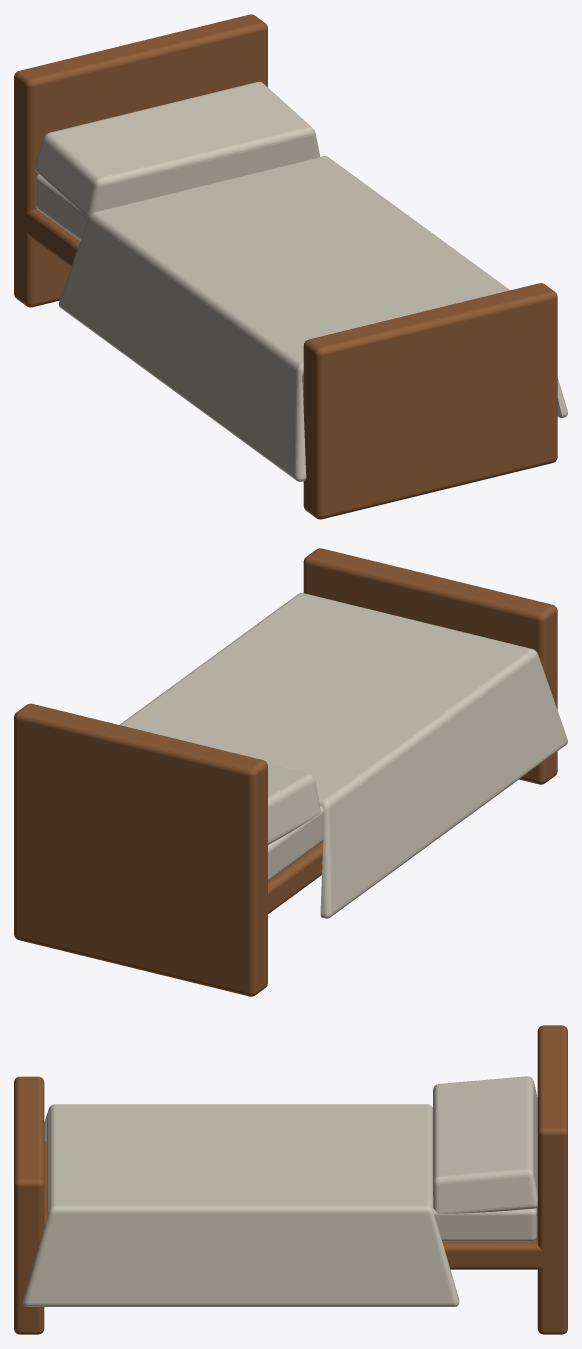
Rendered from forma-bed-single.glb.
3 renders of one model, top to bottom at view 1: azimuth 30°, elevation 25°; view 2: azimuth 150°, elevation 25°; view 3: azimuth 270°, elevation 25°, orthographic. The views are drawn at different scales.
Visible parts, largest first — view 1: blanket, box.2, box, pillow, mattress, box.3; view 2: blanket, box, box.2, pillow, box.3, mattress; view 3: blanket, pillow, box, box.2, mattress, box.3.
Boxes of the visible parts, <box> form: blanket: <box>58,156,567,481</box>; box.2: <box>303,283,557,519</box>; box: <box>14,14,267,307</box>; pillow: <box>34,81,320,215</box>; mattress: <box>35,174,303,403</box>; box.3: <box>17,209,303,405</box>; blanket: <box>120,593,567,918</box>; box: <box>14,703,267,996</box>; box.2: <box>303,548,557,784</box>; pillow: <box>267,764,320,844</box>; box.3: <box>259,841,323,917</box>; mattress: <box>268,805,324,880</box>; blanket: <box>23,1104,459,1306</box>; pillow: <box>433,1076,537,1213</box>; box: <box>537,1025,567,1334</box>; box.2: <box>14,1076,44,1334</box>; mattress: <box>47,1111,536,1241</box>; box.3: <box>44,1141,543,1269</box>.
Size of the model in its own units: 1.43 by 1.14 by 2.78.
